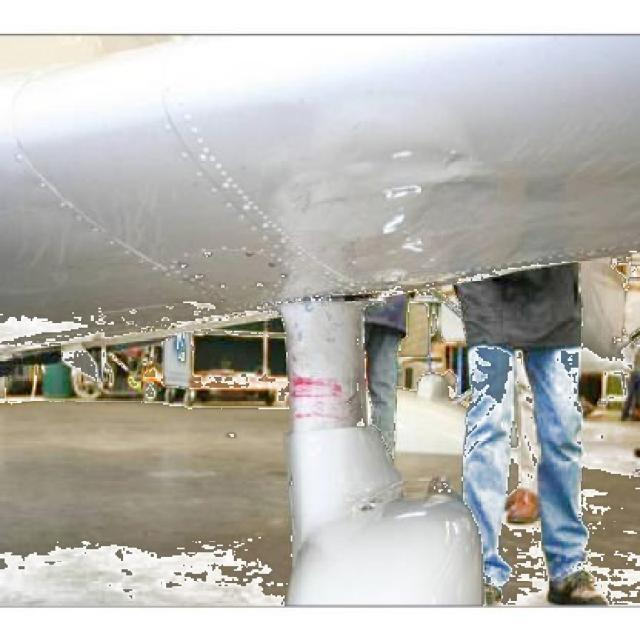dent: (363, 180, 425, 199)
